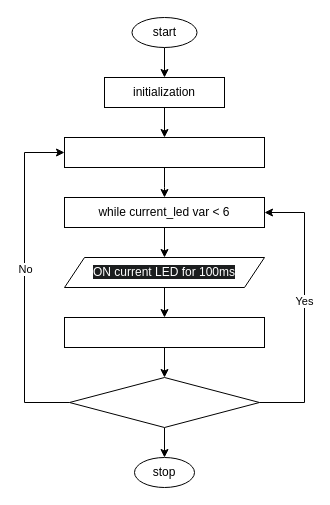
This 330x505 diagram has some shape labels left out. The box of each missing label's shape, as (x1, y1, x2, y2) in pixels:
assign 0 to current_led var: (64, 136, 264, 168)
increment current_led var by 1: (64, 316, 264, 348)
is current_led var < 6: (68, 376, 260, 428)
